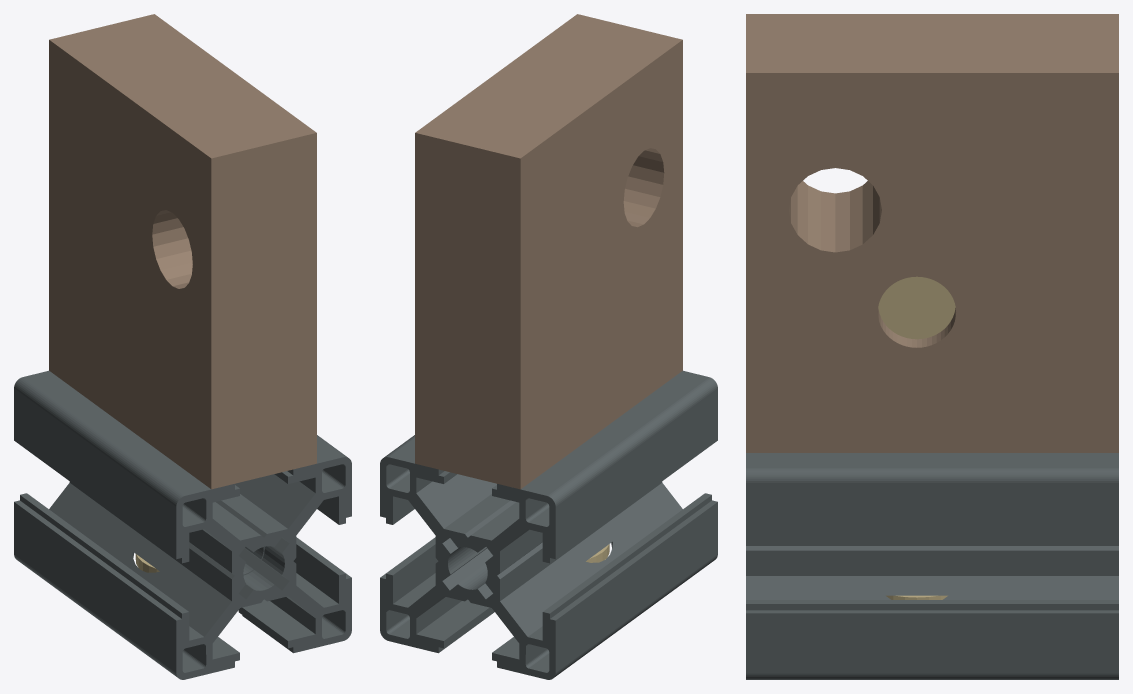
File: mount-detail.glb
3 views of the same model, side by side, from view 1: azimuth 30°, elevation 25°; view 2: azimuth 150°, elevation 25°; view 3: azimuth 270°, elevation 25° (orthographic). The views are drawn at different scales.
Parts seen in each view (by area): view 1: Left-pegboard-18, Beam-body-side-4; view 2: Left-pegboard-18, Beam-body-side-4; view 3: Left-pegboard-18, Beam-body-side-4, Pegboard-cross-dowel-Bottom-97.
Part boxes in pixels (bbox=[...]): Left-pegboard-18: bbox=[49, 14, 316, 489]; Beam-body-side-4: bbox=[14, 370, 351, 679]; Left-pegboard-18: bbox=[415, 14, 682, 489]; Beam-body-side-4: bbox=[380, 370, 717, 679]; Left-pegboard-18: bbox=[746, 14, 1118, 452]; Beam-body-side-4: bbox=[746, 453, 1118, 679]; Pegboard-cross-dowel-Bottom-97: bbox=[878, 276, 955, 339].
Bounding box in the file's own units: 0.03 × 0.084 × 0.048.
